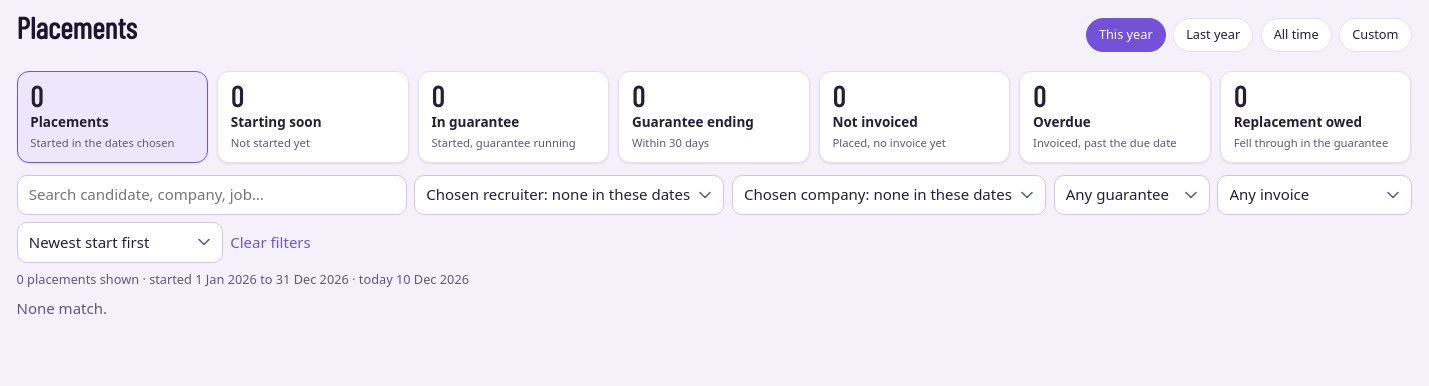
Test: placements › keeps showing a chosen company that has no placements in the dates, so an empty table explains itself
Expected: the text "None match." is shown, [16,298,107,318]
Select "All companies" in the dropdown named "Company": (889, 195) [732,175,1046,215]
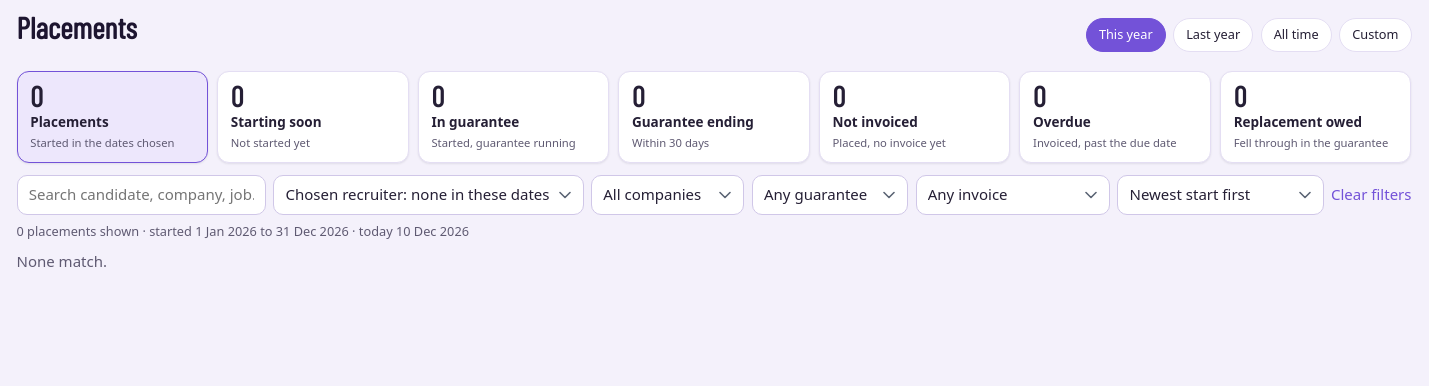
Select "All recruiters" in the dropdown named "Recruiter": (428, 195) [273,175,584,215]
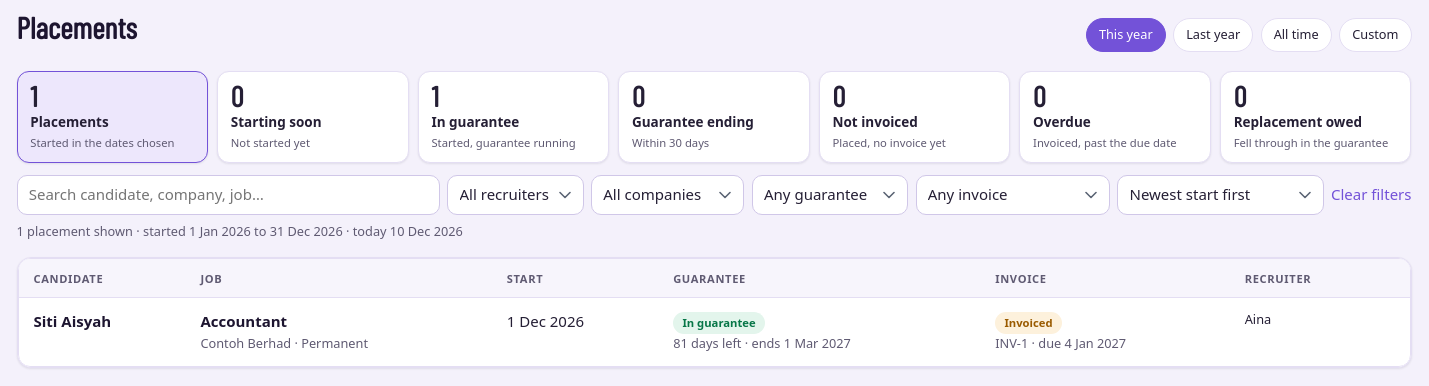
Now the row "Siti Aisyah" is shown, box [18,298,1410,366]
